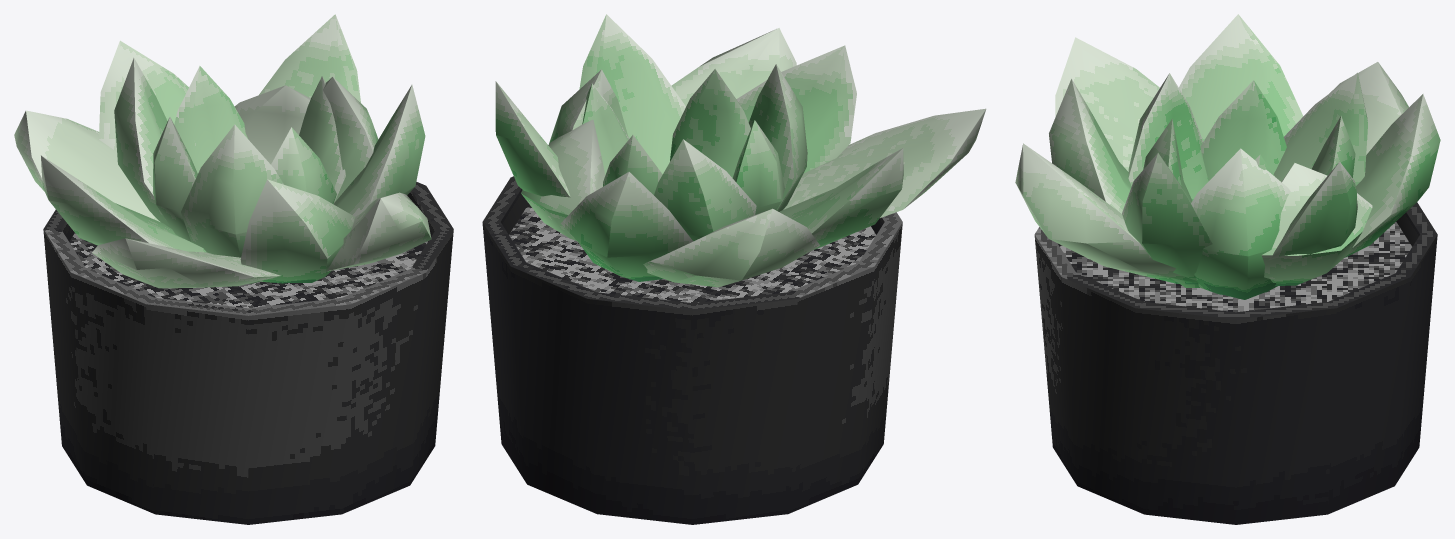
File: pot_small3.glb
3 renders of one model, left to right at view 1: azimuth 30°, elevation 25°; view 2: azimuth 150°, elevation 25°; view 3: azimuth 270°, elevation 25°, orthographic. The views are drawn at different scales.
Parts seen in each view (by area): view 1: mesh; view 2: mesh; view 3: mesh.
Boxes of the visible parts, x1,y1,x2,y2 form: mesh: (14, 14, 453, 524); mesh: (482, 14, 986, 524); mesh: (1015, 14, 1440, 524).
Size of the model in its own units: 0.1673 by 0.15 by 0.1632.
1 material, 1 textured.
